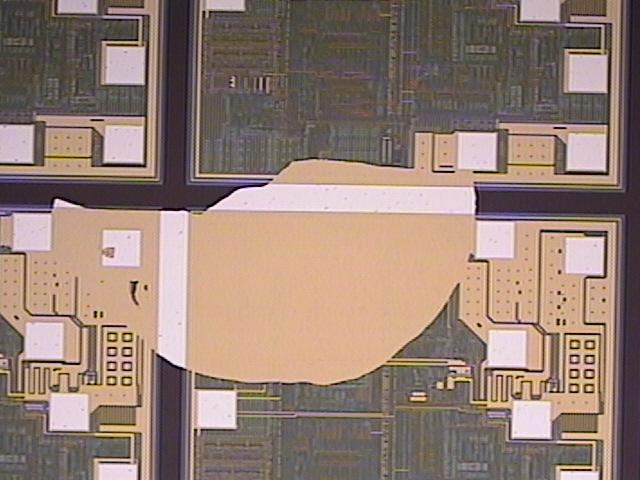BLOCK ETCH: (1, 160, 480, 387)
